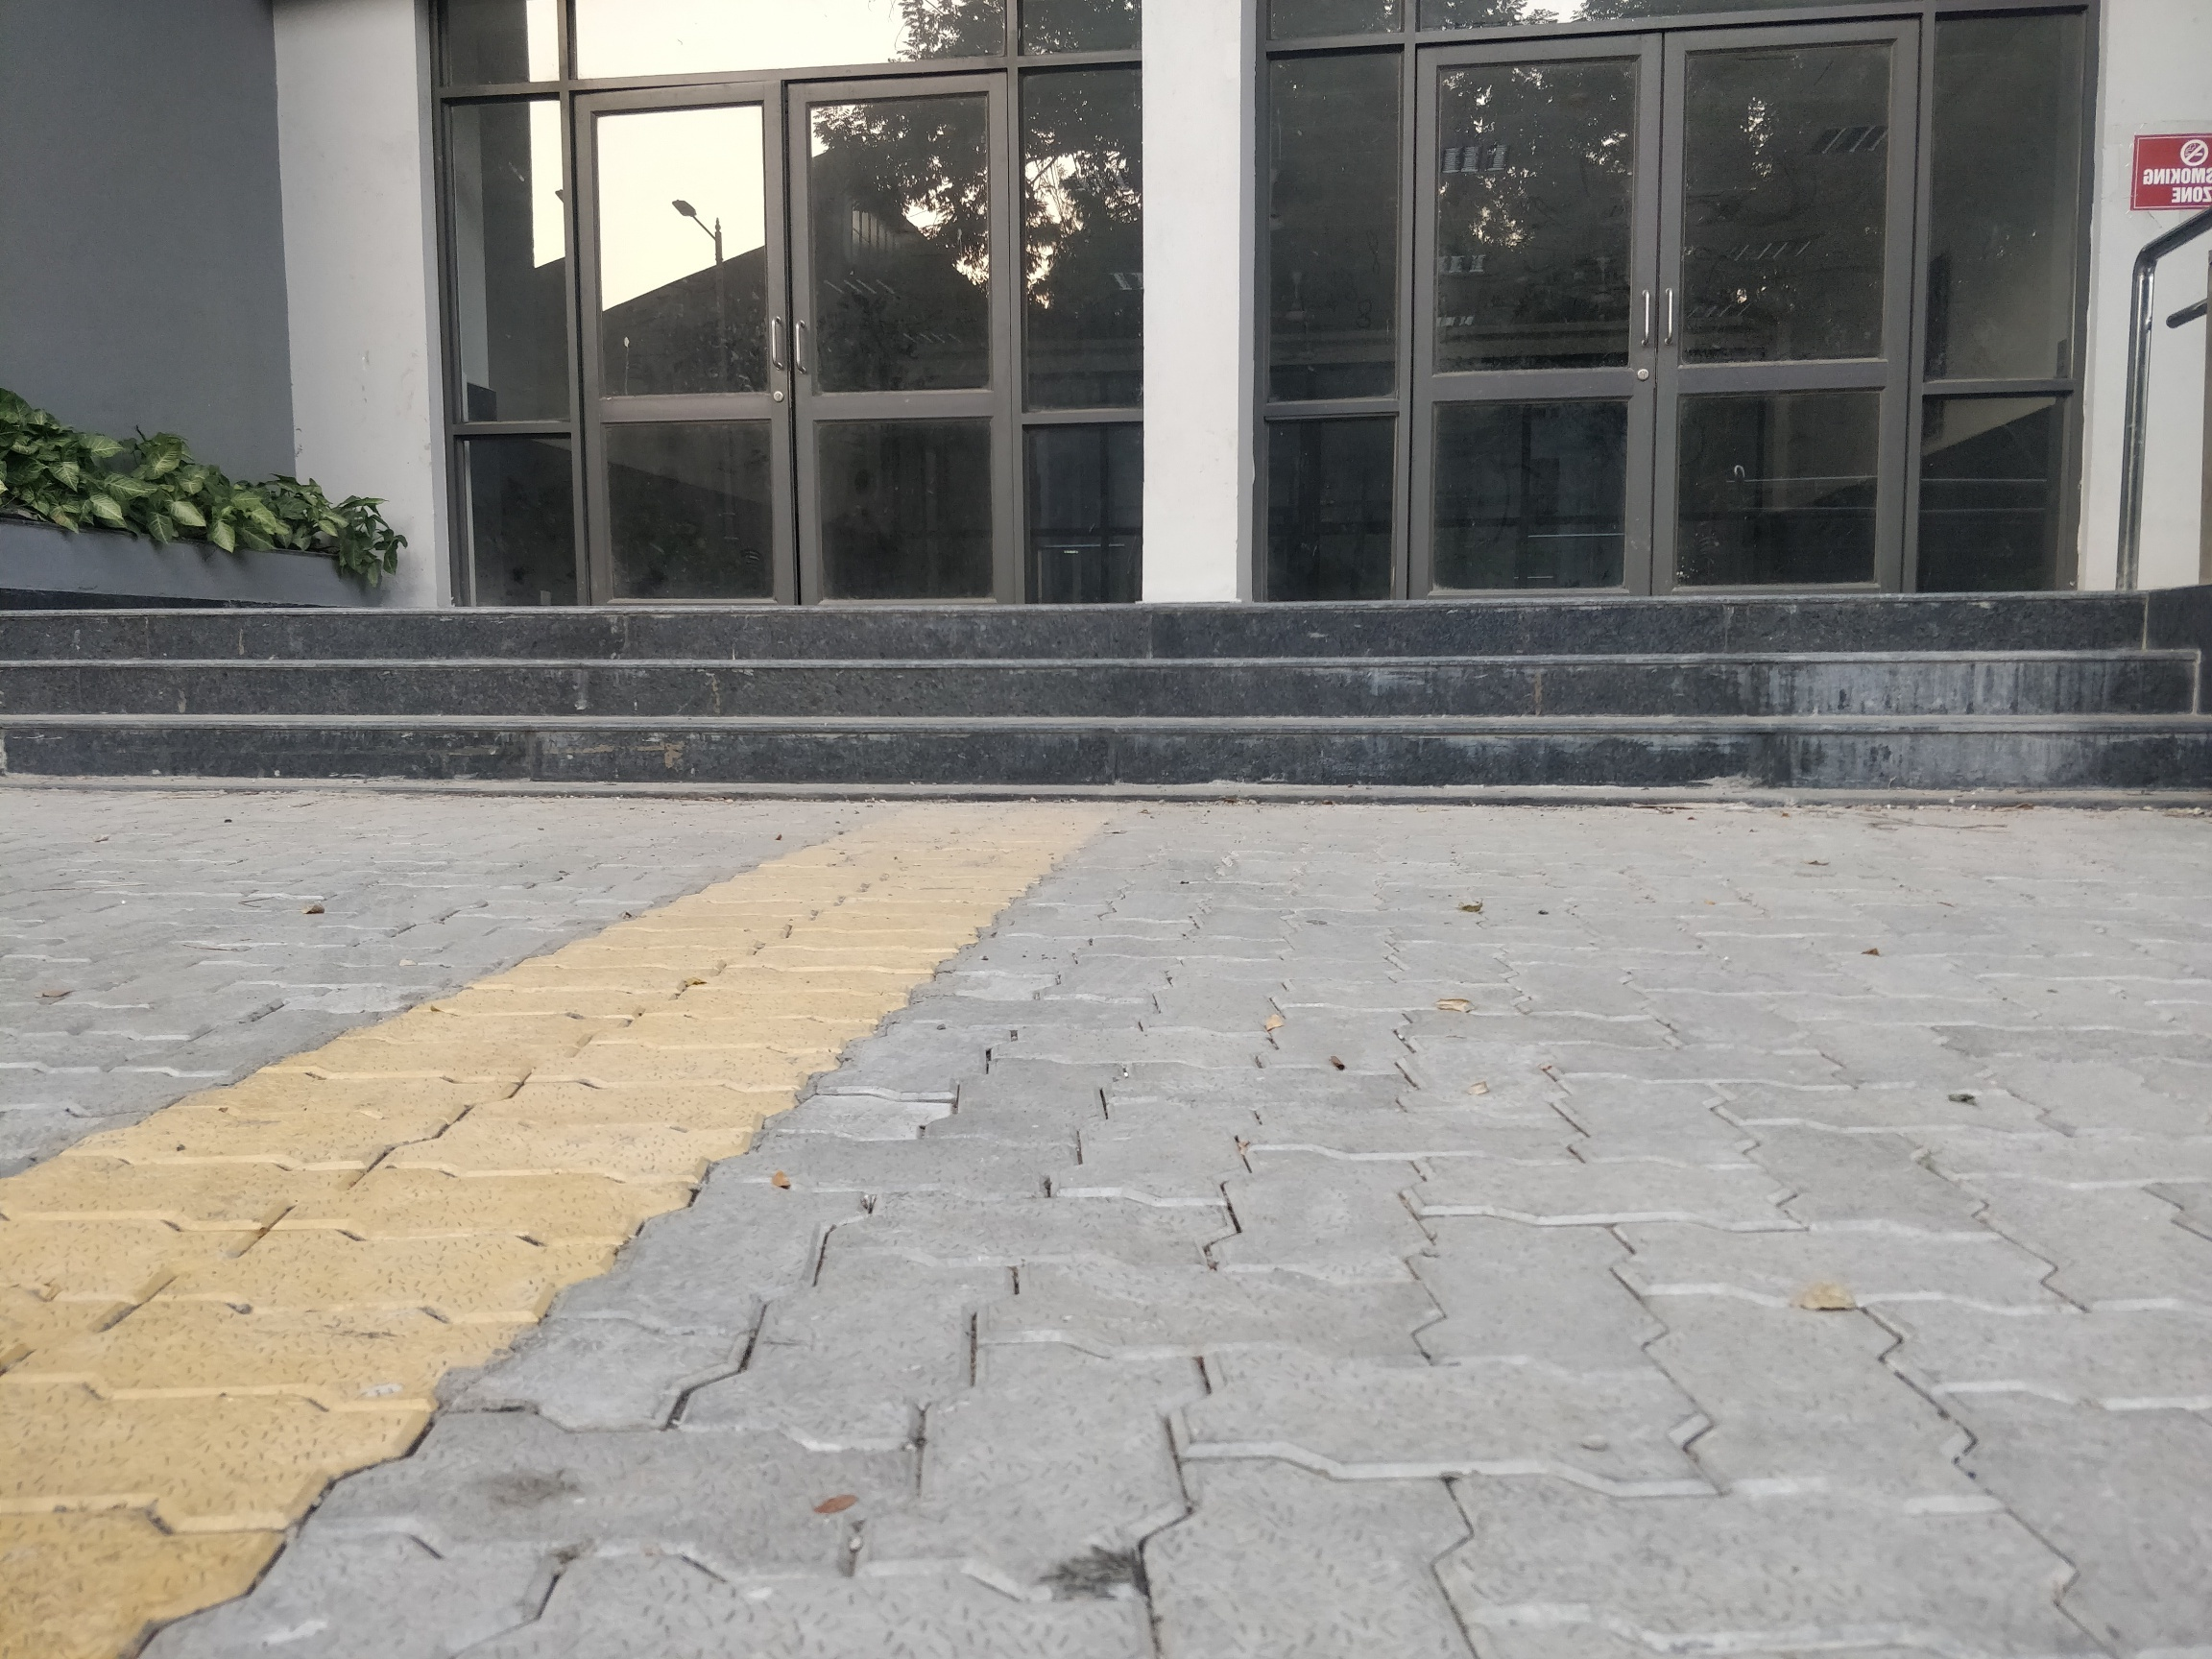stairs_up: (5, 598, 2212, 765)
